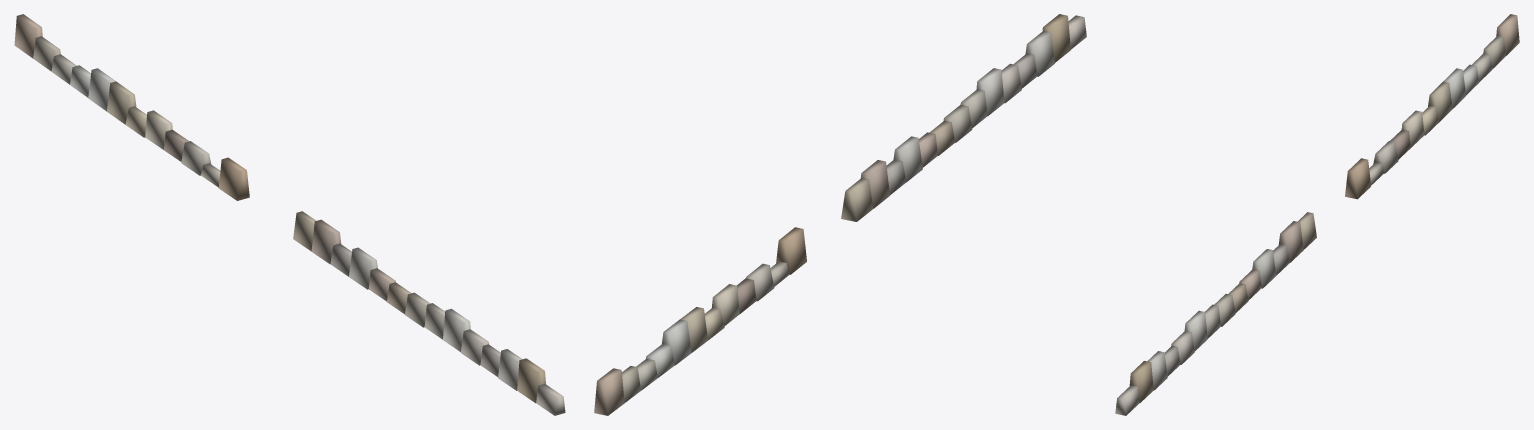
Rendered from farm_12_5_collision.glb.
The picture shows the model from 3 angles, left to right: view 1: azimuth 30°, elevation 25°; view 2: azimuth 150°, elevation 25°; view 3: azimuth 330°, elevation 25°; orthographic projection. The views are drawn at different scales.
Visible parts, largest first — view 1: geometry_0; view 2: geometry_0; view 3: geometry_0.
Part boxes in pixels (x1,y1,x2,y2): geometry_0: [14, 14, 565, 415]; geometry_0: [594, 14, 1086, 415]; geometry_0: [1115, 14, 1519, 415].
Bounding box in the file's own units: 3.87 × 3.24 × 45.45.
